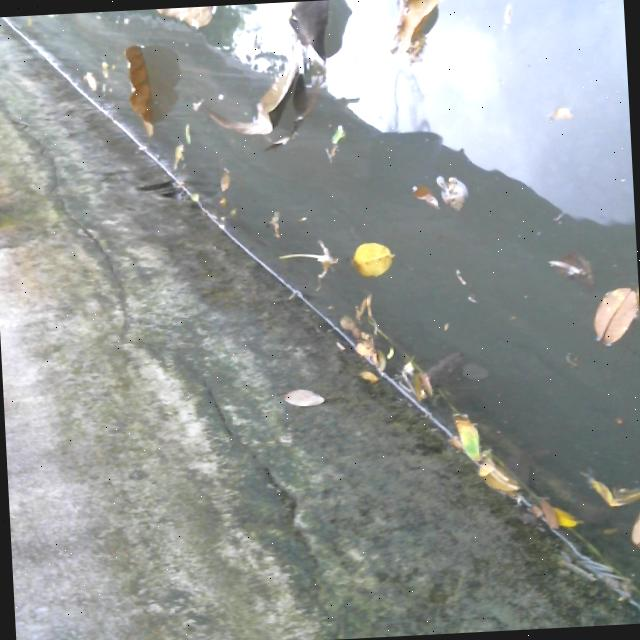Big-leaf: (209, 0, 357, 149), (374, 0, 449, 86), (119, 47, 156, 137), (151, 5, 221, 41)
Small-leaf: (583, 276, 640, 347), (346, 219, 406, 285), (440, 407, 494, 469), (584, 470, 640, 512), (472, 462, 528, 501), (530, 497, 582, 528), (390, 180, 438, 213), (550, 253, 595, 287), (259, 210, 294, 250), (353, 337, 390, 367), (442, 184, 474, 218), (214, 164, 241, 200), (624, 507, 640, 558), (84, 60, 105, 93), (170, 147, 187, 171)
